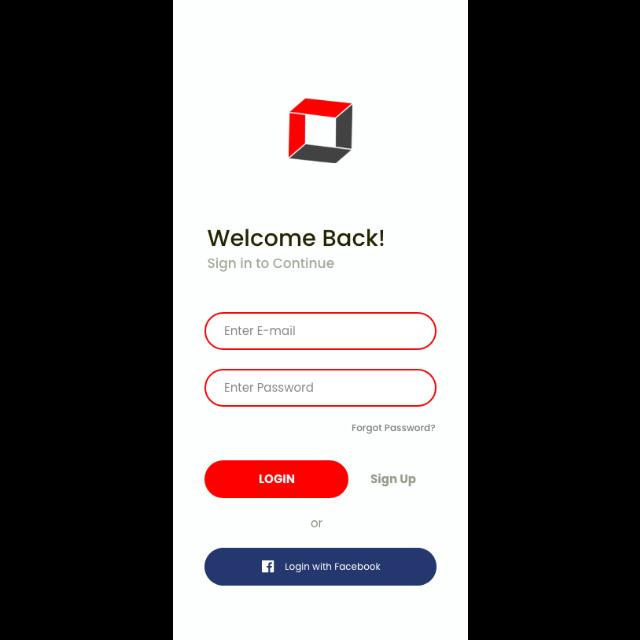image: (288, 98, 352, 164)
input: (204, 312, 436, 350), (204, 369, 436, 407)
text: (208, 229, 384, 247), (208, 258, 334, 272), (225, 382, 313, 392), (352, 424, 434, 434), (224, 326, 294, 336), (370, 474, 416, 486), (312, 520, 322, 528)
textbutton: (204, 548, 436, 586), (204, 460, 348, 498)
